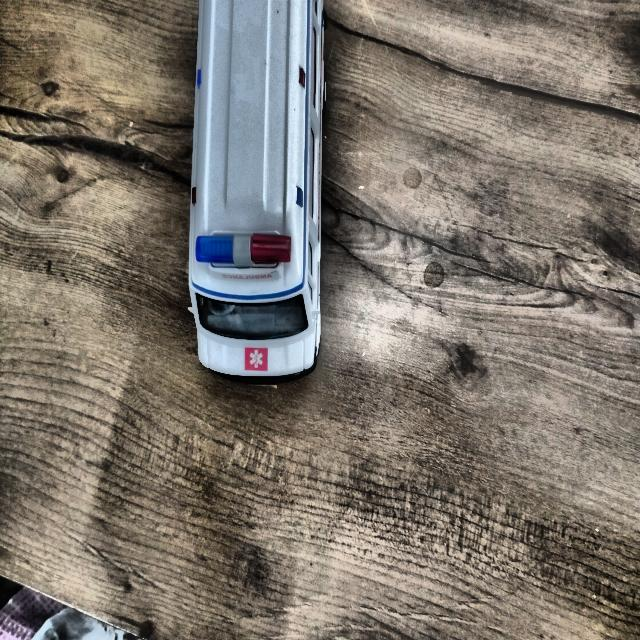Ambulance: (185, 1, 330, 392)
